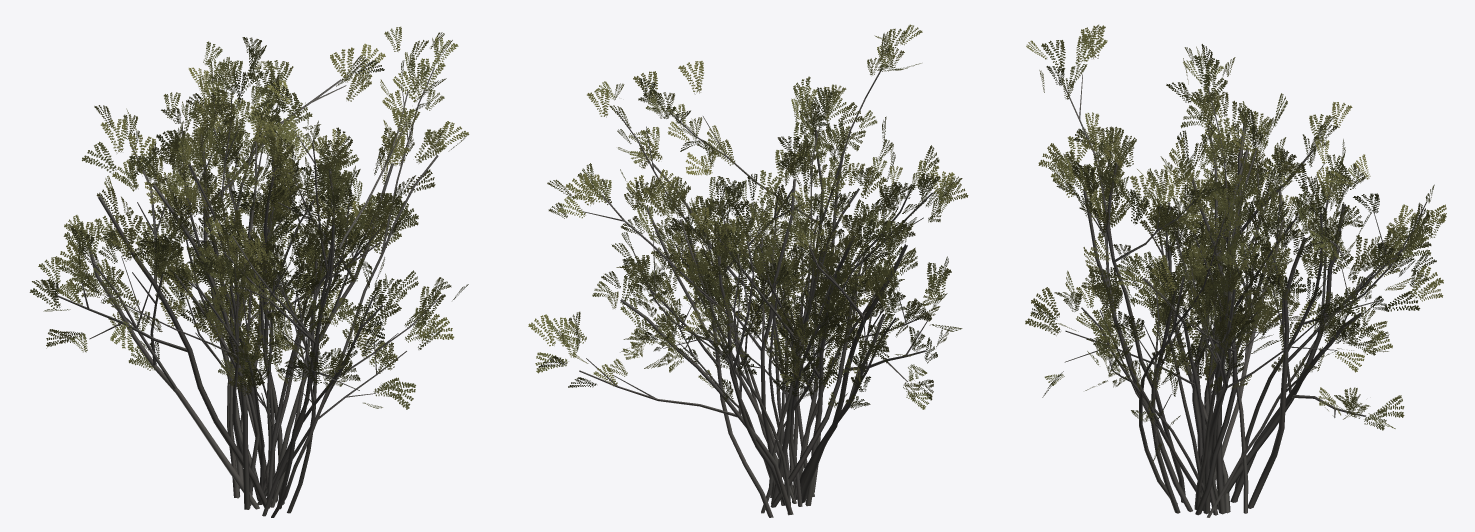
File: creosote_a.glb
3 views of the same model, side by side, from view 1: azimuth 30°, elevation 25°; view 2: azimuth 150°, elevation 25°; view 3: azimuth 270°, elevation 25° (orthographic). The views are drawn at different scales.
Parts seen in each view (by area): view 1: creosote_a; view 2: creosote_a; view 3: creosote_a.
Boxes of the visible parts, x1=… form: creosote_a: x1=29, y1=26, x2=469, y2=517; creosote_a: x1=528, y1=24, x2=968, y2=517; creosote_a: x1=1025, y1=24, x2=1446, y2=517.
Size of the model in its own units: 1.82 by 1.99 by 1.73.
2 materials, 1 textured.
